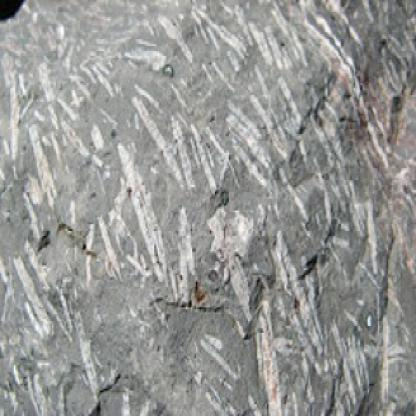Igneous_Basalt: (3, 3, 414, 414)
